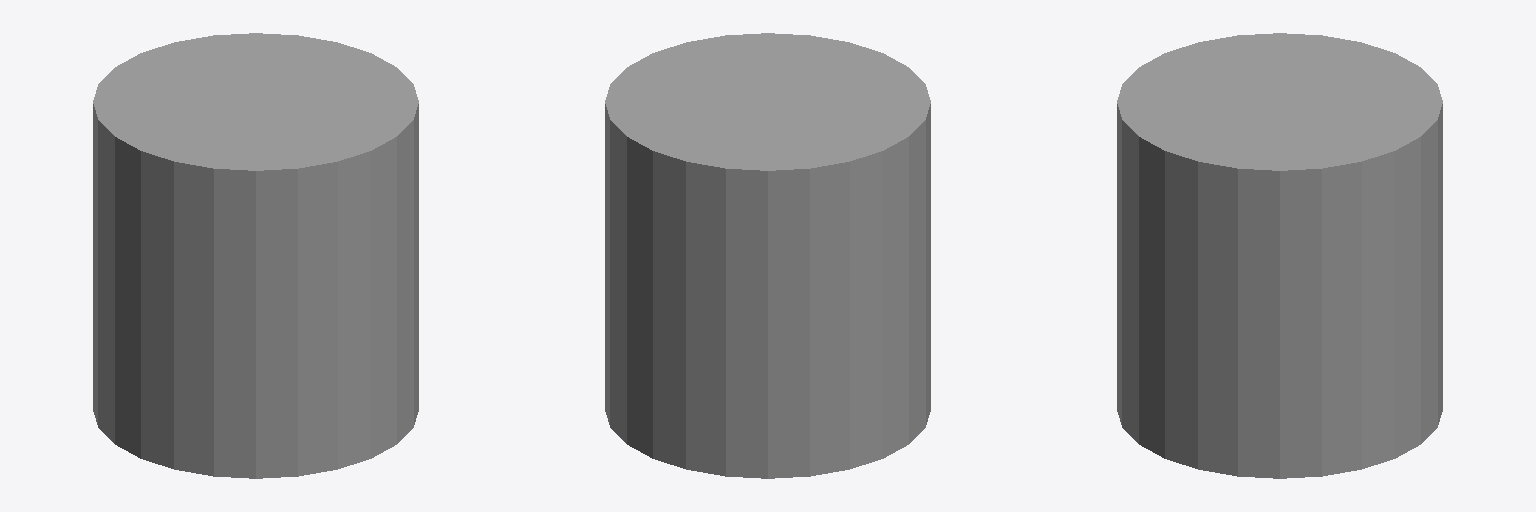
3 renders of one model, left to right at view 1: azimuth 30°, elevation 25°; view 2: azimuth 150°, elevation 25°; view 3: azimuth 270°, elevation 25°, orthographic.
Parts seen in each view (by area): view 1: Non_subD; view 2: Non_subD; view 3: Non_subD.
Part boxes in pixels (x1,y1,x2,y2): Non_subD: (93,33,418,478); Non_subD: (605,33,930,478); Non_subD: (1117,33,1442,478).
Bounding box in the file's own units: 4.22 × 4.39 × 4.22.